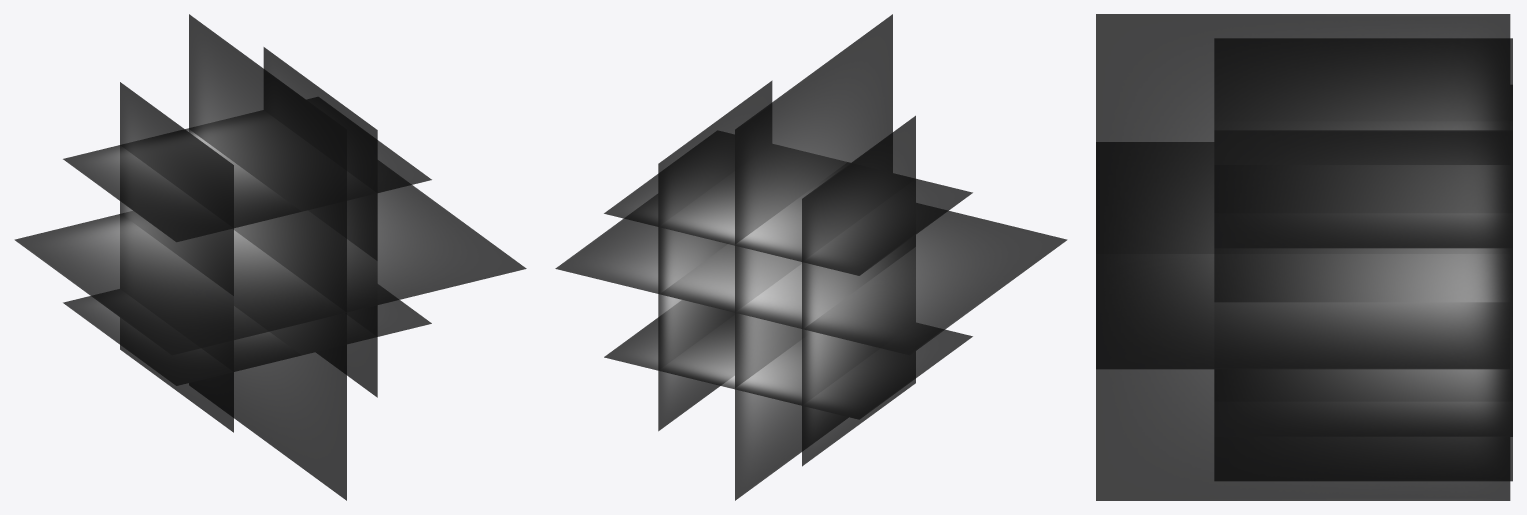
File: fx_volumetricGlare.FBX
3 renders of one model, left to right at view 1: azimuth 30°, elevation 25°; view 2: azimuth 150°, elevation 25°; view 3: azimuth 270°, elevation 25°, orthographic. The views are drawn at different scales.
Parts seen in each view (by area): view 1: fx_volumetricGlare; view 2: fx_volumetricGlare; view 3: fx_volumetricGlare.
Boxes of the visible parts, bbox=[...] form: fx_volumetricGlare: bbox=[14, 14, 526, 500]; fx_volumetricGlare: bbox=[555, 14, 1067, 500]; fx_volumetricGlare: bbox=[1096, 14, 1512, 500].
Size of the model in its own units: 1.56 by 1.56 by 1.21.
1 material, 1 textured.
